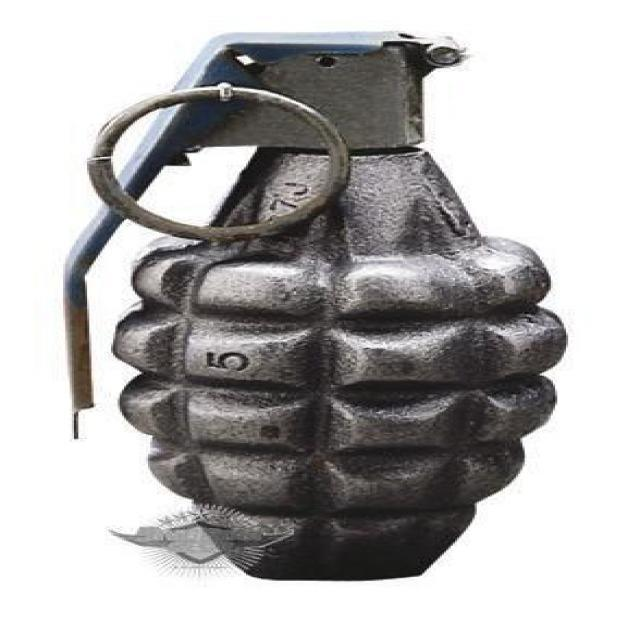grenade: (70, 24, 562, 618)
